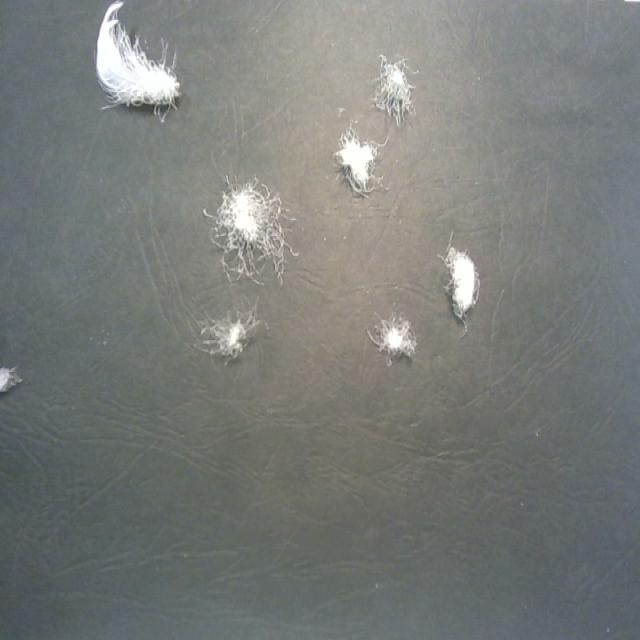feather: (93, 0, 182, 124), (204, 172, 297, 287), (435, 242, 481, 330), (197, 302, 259, 362), (331, 127, 384, 196), (370, 49, 417, 124), (365, 312, 417, 364), (0, 362, 19, 398)
